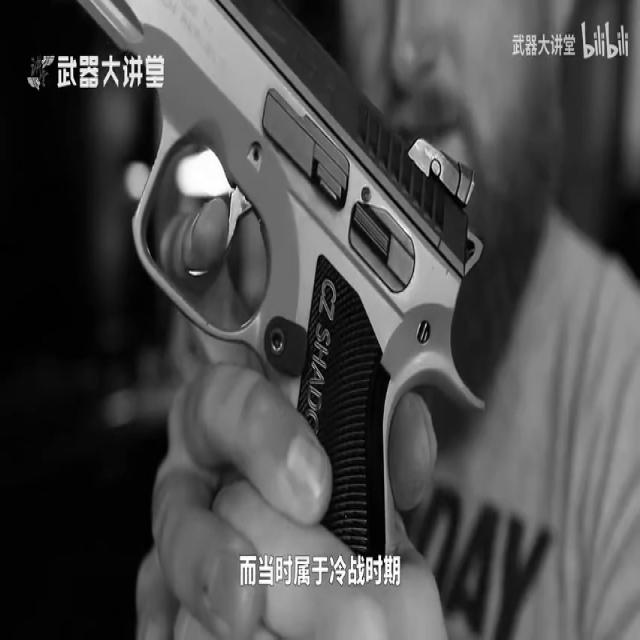Hand-Gun: (40, 0, 489, 596)
